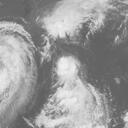cyclone: (54, 54, 82, 82)
